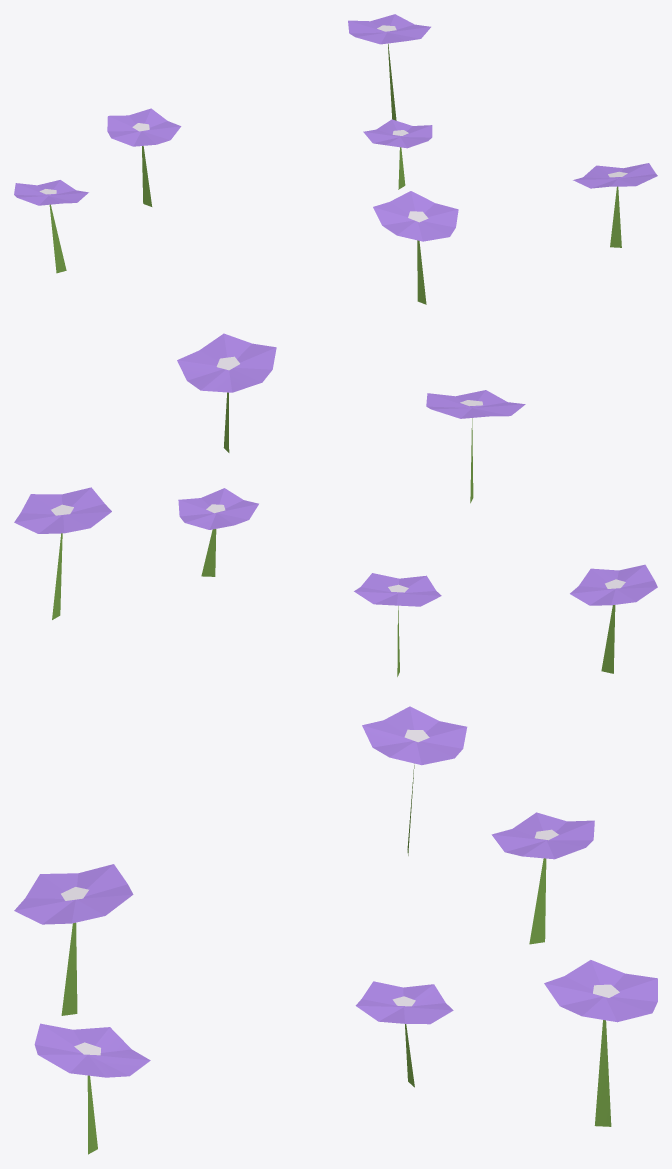
Rendered from violets.glb.
The picture shows the model from 3 angles, top to bottom: view 1: azimuth 30°, elevation 25°; view 2: azimuth 150°, elevation 25°; view 3: azimuth 270°, elevation 25°; orthographic projection. The views are drawn at different scales.
Parts seen in each view (by area): view 1: violets; view 2: violets; view 3: violets.
Part boxes in pixels (left/top/right/bottom): violets: left=14, top=14, right=657, bottom=304; violets: left=14, top=333, right=657, bottom=676; violets: left=14, top=706, right=657, bottom=1154.
Size of the model in its own units: 0.5011 by 0.0905 by 0.3853.
